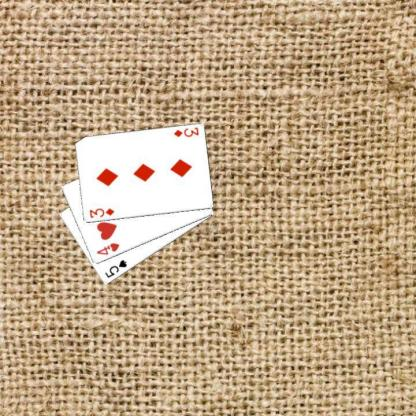3D: (86, 206, 116, 220), (171, 124, 199, 138)
4H: (94, 240, 120, 257)
5S: (102, 258, 128, 279)
